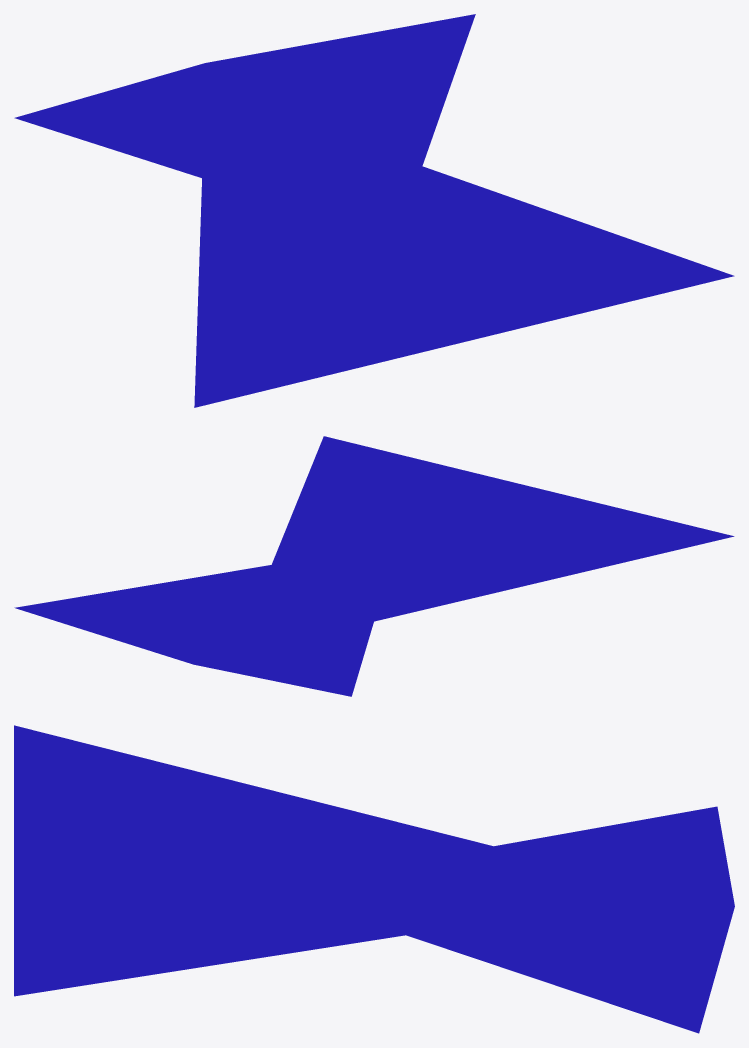
The model's file is suelo_agua_p1.fbx.
3 renders of one model, top to bottom at view 1: azimuth 30°, elevation 25°; view 2: azimuth 150°, elevation 25°; view 3: azimuth 270°, elevation 25°, orthographic. The views are drawn at different scales.
Parts seen in each view (by area): view 1: Cylinder005; view 2: Cylinder005; view 3: Cylinder005.
Boxes of the visible parts, <box> form: Cylinder005: <box>14,14,734,407</box>; Cylinder005: <box>14,436,734,696</box>; Cylinder005: <box>14,725,734,1033</box>.
Size of the model in its own units: 43.21 by 3.12e-07 by 42.71.
